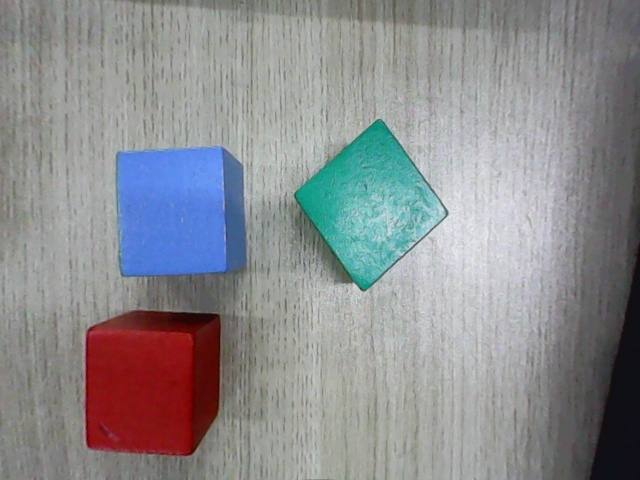upside of big cube: (292, 118, 451, 294), (116, 146, 227, 275), (87, 333, 193, 453)
